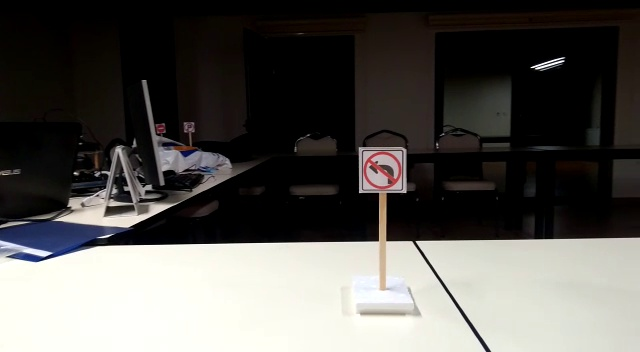sola_donulmez: (361, 152, 407, 192)
